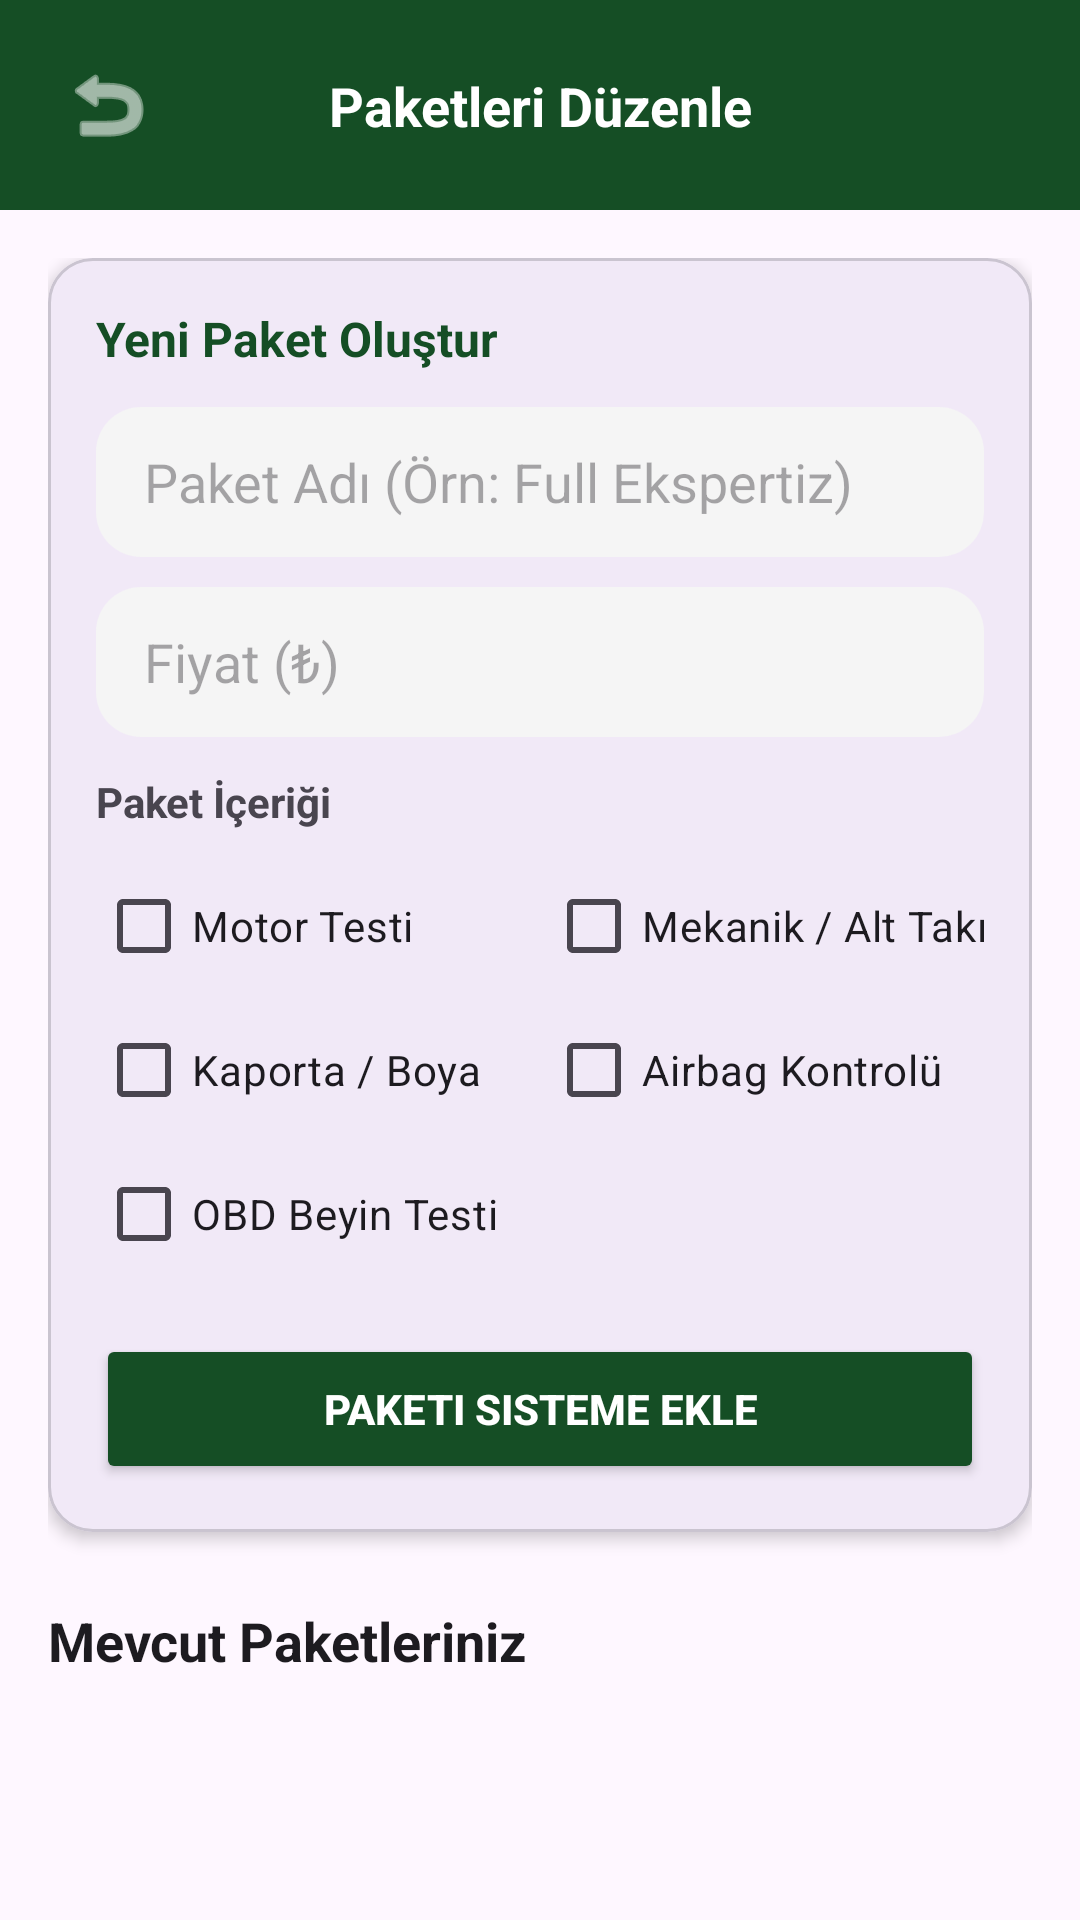

Icon click points for this 1080px×1920px phone screenshot, format (x,y):
revert: (109,105)
